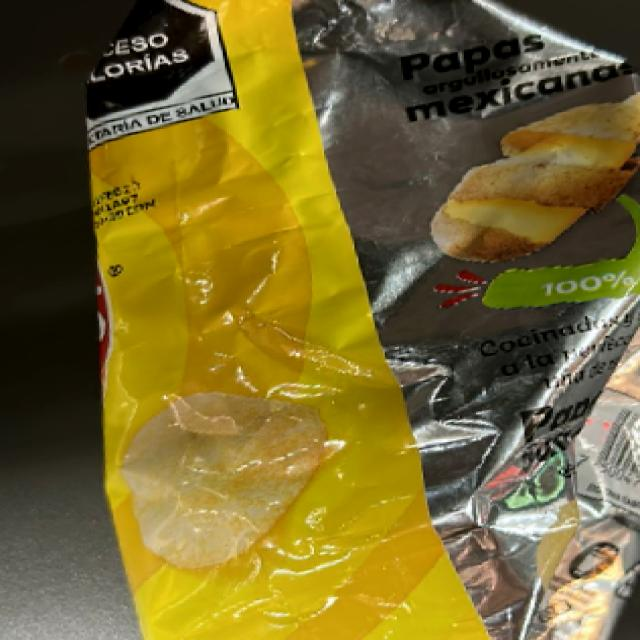productoAtras: (386, 8, 640, 598)
